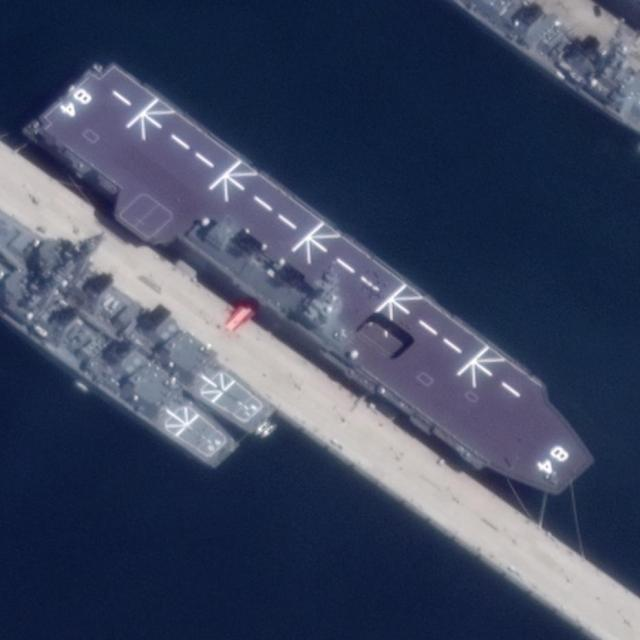Destroyer: (19, 38, 615, 521)
